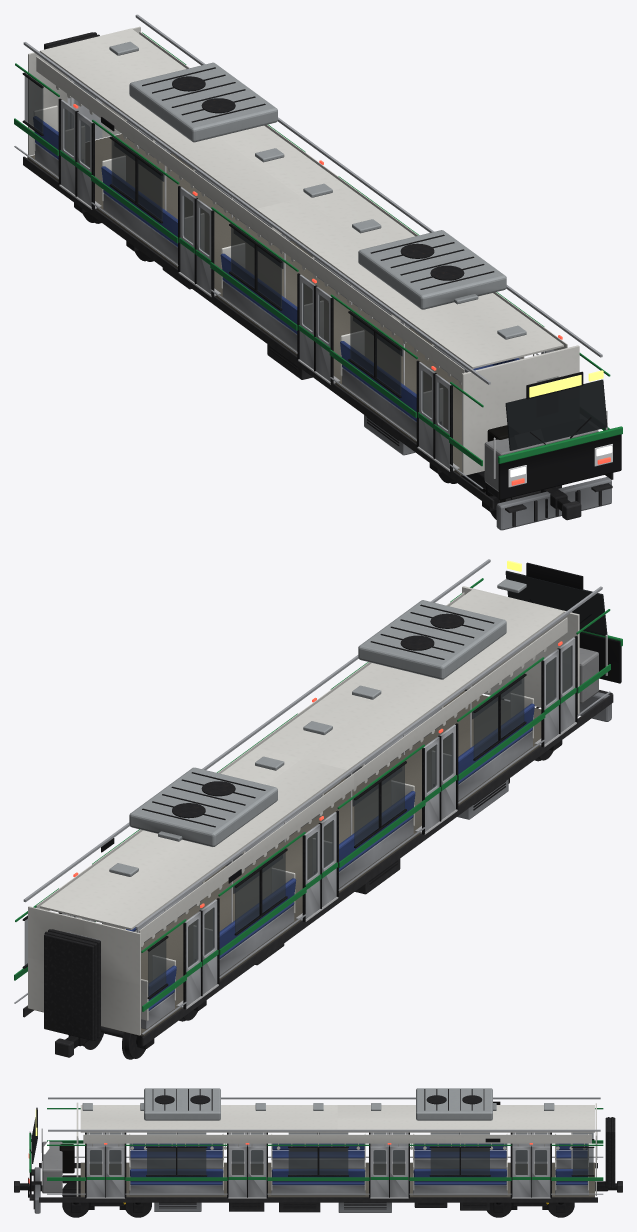
Rendered from commuter_end.glb.
The picture shows the model from 3 angles, top to bottom: view 1: azimuth 30°, elevation 25°; view 2: azimuth 150°, elevation 25°; view 3: azimuth 270°, elevation 25°; orthographic projection. The views are drawn at different scales.
Parts seen in each view (by area): view 1: commuter_end_plastic_white, commuter_end_galvanised, floor, commuter_end_glass, commuter_end_stainless_dull, commuter_end_stainless, commuter_end_paint_green, commuter_end_steel_dark, commuter_end_seat_moquette, commuter_end_rubber, windscreen, commuter_end_paint_black (+7 smaller); view 2: commuter_end_plastic_white, commuter_end_galvanised, floor, commuter_end_glass, commuter_end_stainless_dull, commuter_end_stainless, commuter_end_gangway, commuter_end_steel_dark, commuter_end_seat_moquette, commuter_end_paint_green, commuter_end_rubber, commuter_end_cast_iron (+6 smaller); view 3: commuter_end_plastic_white, commuter_end_stainless_dull, commuter_end_glass, commuter_end_seat_moquette, commuter_end_stainless, commuter_end_galvanised, commuter_end_steel_dark, floor, commuter_end_paint_green, commuter_end_cast_iron, commuter_end_rubber, commuter_end_bogie (+7 smaller).
Boxes of the visible parts, x1,y1,x2,y2 form: commuter_end_plastic_white: (28,26,579,475); commuter_end_galvanised: (109,41,526,339); floor: (27,134,461,475); commuter_end_glass: (24,76,557,429); commuter_end_stainless_dull: (14,14,602,488); commuter_end_stainless: (61,77,554,468); commuter_end_paint_green: (14,32,622,466); commuter_end_steel_dark: (23,156,613,527); commuter_end_seat_moquette: (33,116,519,421); commuter_end_rubber: (22,72,578,517); windscreen: (505,379,607,450); commuter_end_paint_black: (101,117,621,500); commuter_end_plastic_white: (28,586,579,1035); commuter_end_galvanised: (109,579,526,876); floor: (27,690,541,1036); commuter_end_glass: (24,645,571,996); commuter_end_stainless_dull: (14,559,610,1034); commuter_end_stainless: (61,637,575,1006); commuter_end_gangway: (44,929,100,1040); commuter_end_steel_dark: (23,689,613,1057); commuter_end_seat_moquette: (126,703,534,1010); commuter_end_paint_green: (14,578,622,1011); commuter_end_rubber: (22,636,577,1009); commuter_end_cast_iron: (68,604,562,1049); commuter_end_plastic_white: (76,1102,596,1196); commuter_end_stainless_dull: (47,1097,603,1195); commuter_end_glass: (78,1132,597,1175); commuter_end_seat_moquette: (130,1143,587,1185); commuter_end_stainless: (86,1132,550,1197); commuter_end_galvanised: (82,1088,554,1120); commuter_end_steel_dark: (14,1163,622,1212); floor: (80,1162,594,1197); commuter_end_paint_green: (29,1108,603,1180); commuter_end_cast_iron: (28,1089,608,1212); commuter_end_rubber: (28,1132,594,1197); commuter_end_bogie: (62,1175,574,1217).
Size of what is drawn, in the model's own units: 3.01 by 4.18 by 20.6.
Materials: 27 (21 with a texture image).
